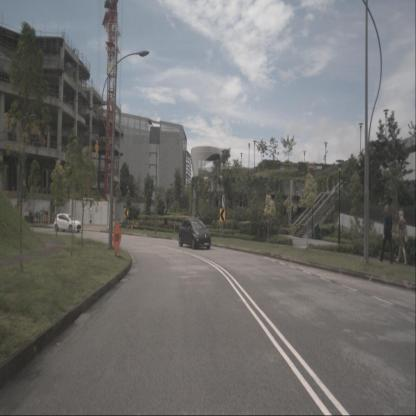human-pedestrian-adult: (378, 205, 393, 264), (393, 211, 408, 265)
vehicle-bicycle: (131, 218, 140, 230), (126, 218, 134, 229)
vehicle-car: (178, 218, 212, 250), (54, 212, 82, 233)
